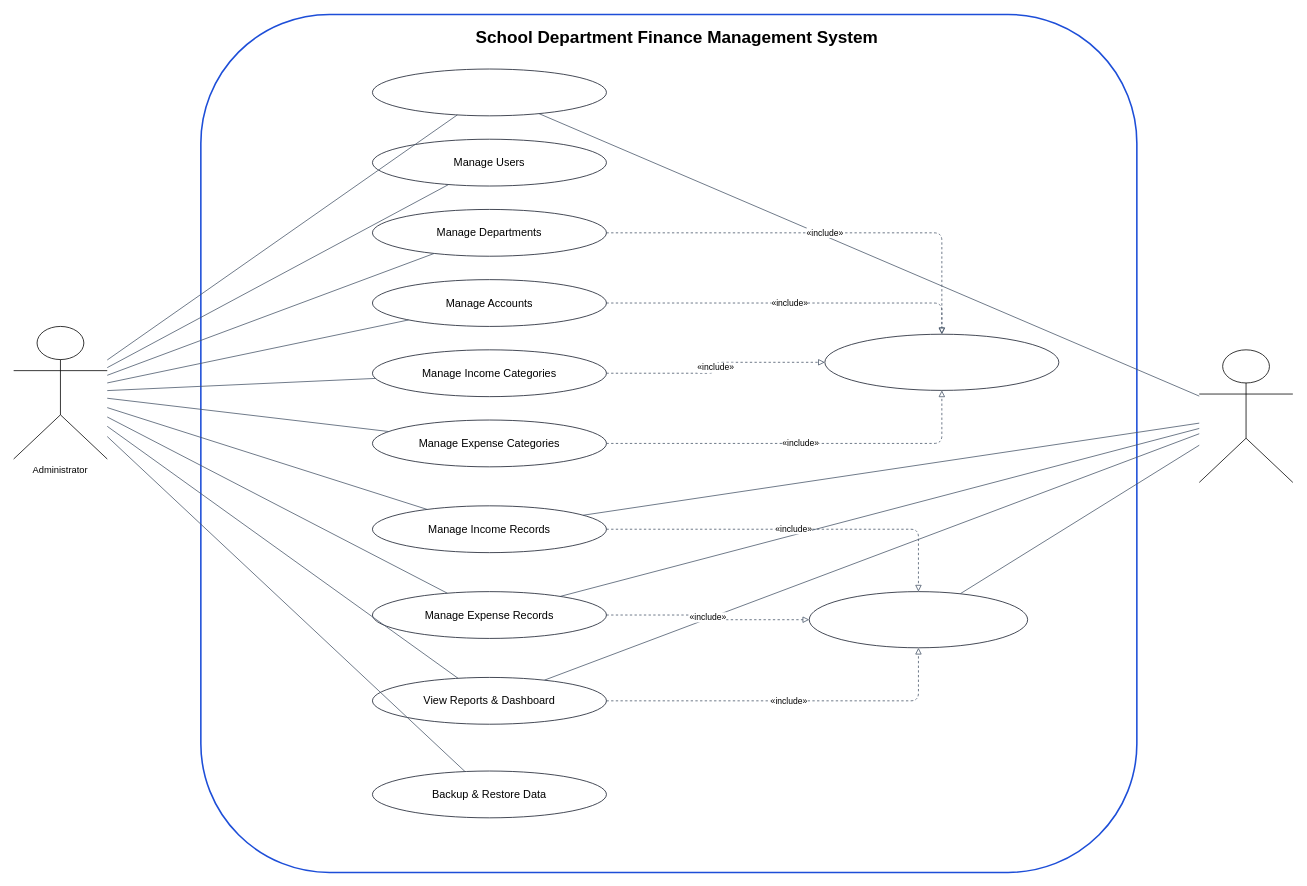
The diagram is 1307 pixels wide and 886 high, and some of its shapes have lost their labels. The centre of each missing label's shape, as x and y in pixels:
Enable / Disable Master Data: the point at 941,361
Finance Clerk: the point at 1245,415
Login / Logout: the point at 489,92
Query with Filters: the point at 918,619
